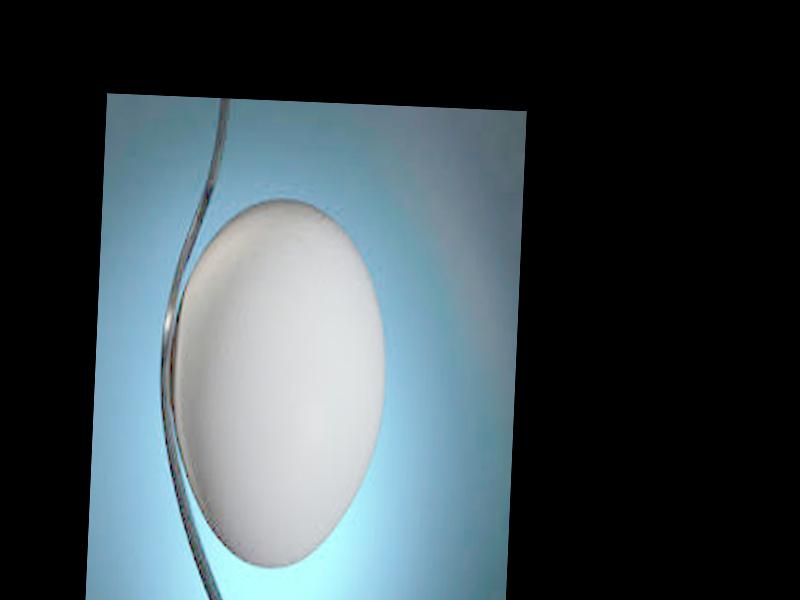Eggs: (165, 195, 389, 572)
